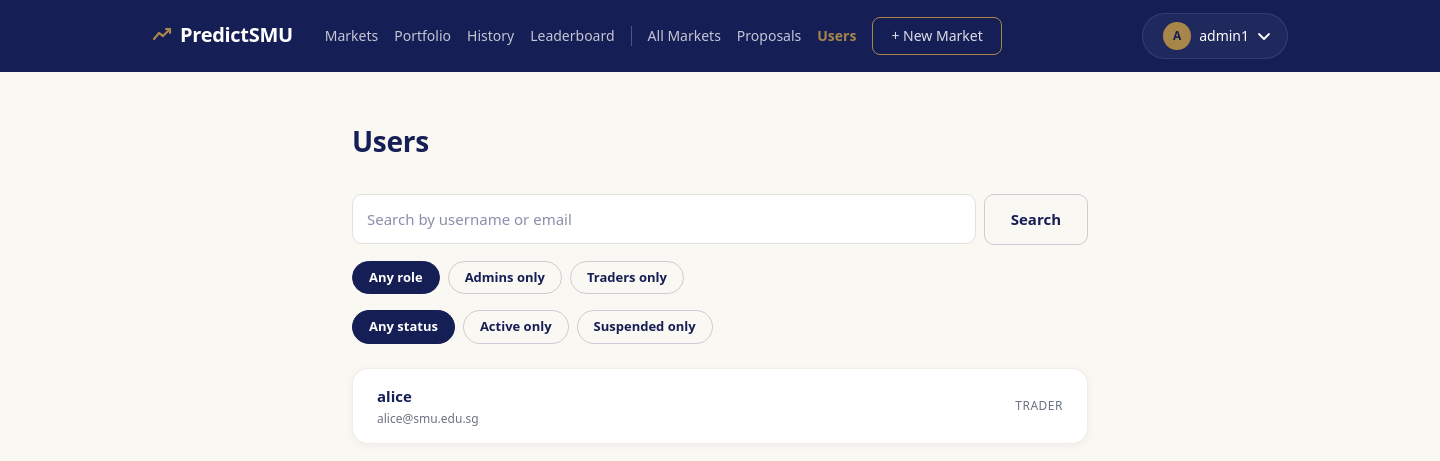
Test: AdminUsersPage › Filter by role: Admins only asks the server for exactly that, and shows what it returns
The width and height of the screenshot is (1440, 461).
Expected: the text "alice" is shown, [377,386,412,406]
What coordinates should you click on to do the following:
click the radio button labelled "Admins only"
I would click on:
 (505, 277)
Its box is [448,260,562,294].
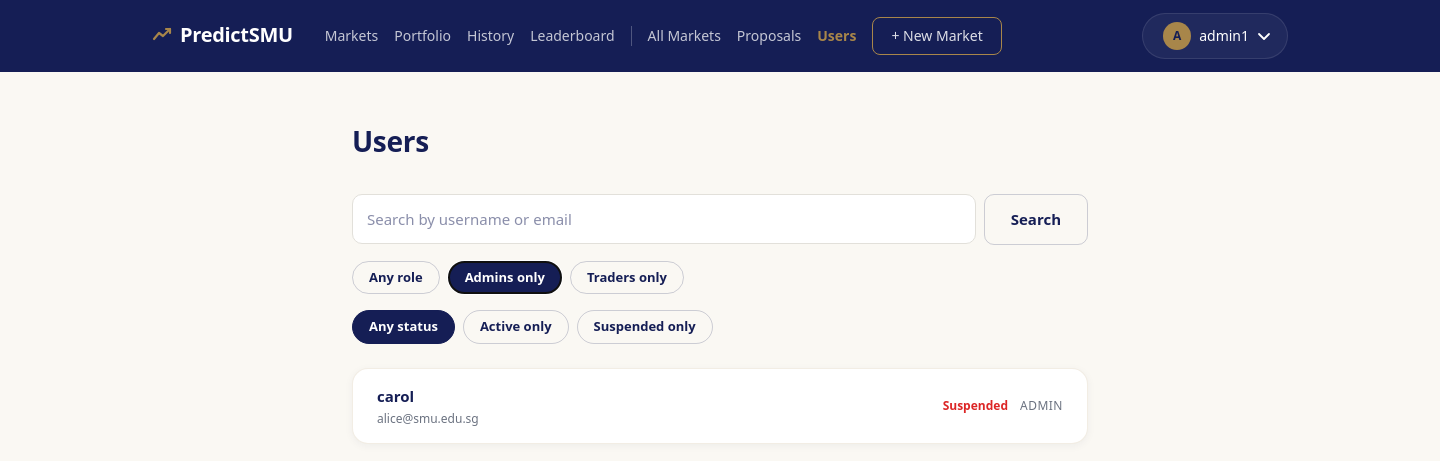
Now the text "carol" is shown, box [377,386,414,406]
